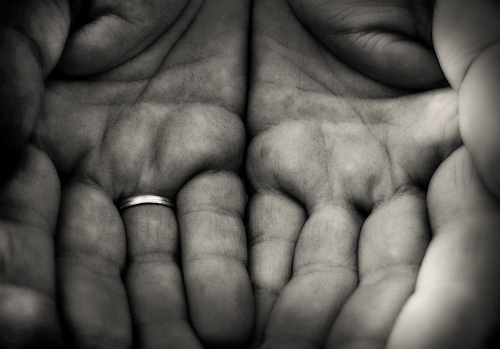palm: (263, 4, 470, 200), (36, 3, 240, 173)
